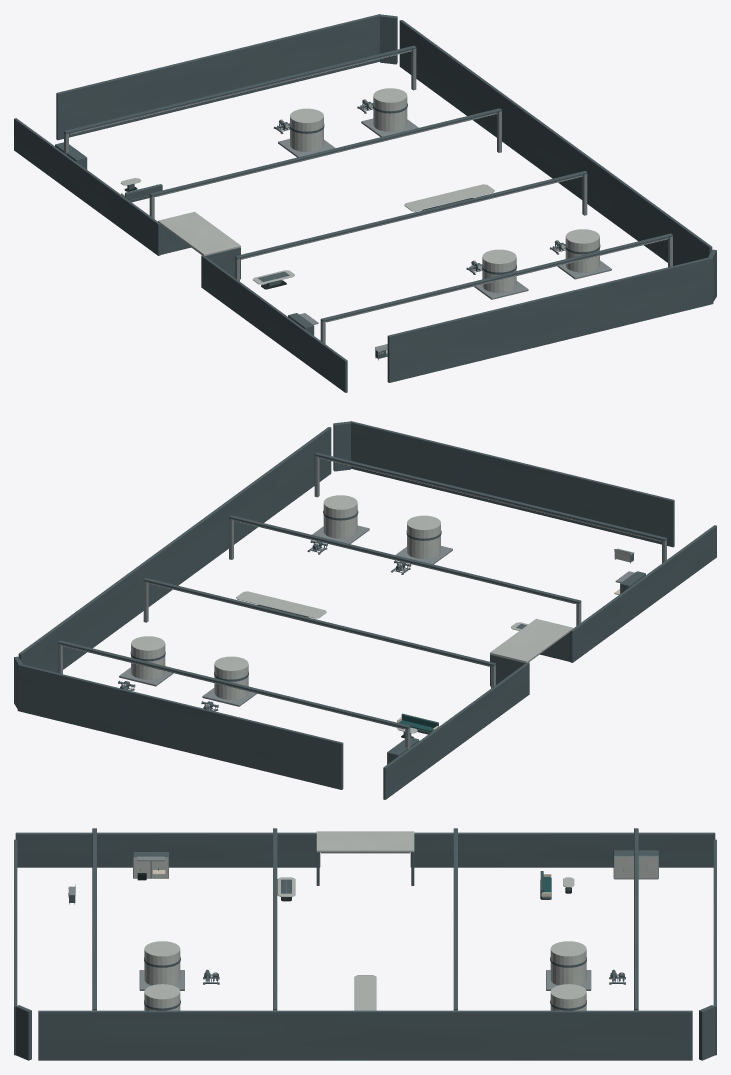
The model's file is SOL_D02_directory_04_source001.glb.
The picture shows the model from 3 angles, top to bottom: view 1: azimuth 30°, elevation 25°; view 2: azimuth 150°, elevation 25°; view 3: azimuth 270°, elevation 25°; orthographic projection. The views are drawn at different scales.
Parts seen in each view (by area): view 1: A_edge1, A_edge-1, A_back, A_inward_screen1, A_inward_screen-1, A_arrival_lintel, A_working_rib3_beam, A_working_rib1_beam, A_working_rib2_beam, A_working_rib0_beam, A_water_tank1, A_water_tank0 (+8 smaller); view 2: A_edge-1, A_edge1, A_back, A_inward_screen-1, A_inward_screen1, A_arrival_lintel, A_working_rib0_beam, A_working_rib2_beam, A_working_rib1_beam, A_working_rib3_beam, A_water_tank3, A_water_tank2 (+8 smaller); view 3: A_back, A_inward_screen1, A_inward_screen-1, A_arrival_lintel, A_water_tank0, A_water_tank2, A_working_rib0_beam, A_working_rib3_beam, A_working_rib1_beam, A_working_rib2_beam, A_folded_return-1, A_folded_return1 (+7 smaller).
Part boxes in pixels (x1=…): A_edge1: x1=387, y1=257, x2=713, y2=382; A_edge-1: x1=56, y1=14, x2=380, y2=140; A_back: x1=399, y1=20, x2=712, y2=265; A_inward_screen1: x1=201, y1=255, x2=347, y2=392; A_inward_screen-1: x1=14, y1=118, x2=160, y2=255; A_arrival_lintel: x1=158, y1=211, x2=240, y2=256; A_working_rib3_beam: x1=320, y1=233, x2=672, y2=321; A_working_rib1_beam: x1=149, y1=108, x2=501, y2=196; A_working_rib2_beam: x1=235, y1=171, x2=587, y2=259; A_working_rib0_beam: x1=64, y1=45, x2=416, y2=133; A_water_tank1: x1=373, y1=88, x2=407, y2=131; A_water_tank0: x1=290, y1=108, x2=323, y2=151; A_edge-1: x1=17, y1=664, x2=343, y2=789; A_edge1: x1=350, y1=421, x2=674, y2=547; A_back: x1=18, y1=427, x2=331, y2=672; A_inward_screen-1: x1=383, y1=662, x2=529, y2=799; A_inward_screen1: x1=570, y1=525, x2=716, y2=662; A_arrival_lintel: x1=490, y1=618, x2=572, y2=663; A_working_rib0_beam: x1=58, y1=640, x2=410, y2=728; A_working_rib2_beam: x1=229, y1=515, x2=581, y2=603; A_working_rib1_beam: x1=143, y1=578, x2=495, y2=666; A_working_rib3_beam: x1=314, y1=452, x2=666, y2=540; A_water_tank3: x1=323, y1=495, x2=357, y2=538; A_water_tank2: x1=407, y1=515, x2=440, y2=558; A_back: x1=38, y1=1010, x2=692, y2=1060; A_inward_screen1: x1=15, y1=832, x2=320, y2=867; A_inward_screen-1: x1=410, y1=832, x2=715, y2=867; A_arrival_lintel: x1=316, y1=831, x2=414, y2=852; A_water_tank0: x1=550, y1=941, x2=586, y2=985; A_water_tank2: x1=144, y1=941, x2=180, y2=985; A_working_rib0_beam: x1=634, y1=828, x2=638, y2=1010; A_working_rib3_beam: x1=92, y1=828, x2=96, y2=1010; A_working_rib1_beam: x1=453, y1=828, x2=457, y2=1010; A_working_rib2_beam: x1=273, y1=828, x2=277, y2=1010; A_folded_return-1: x1=699, y1=1005, x2=715, y2=1060; A_folded_return1: x1=15, y1=1005, x2=31, y2=1060.
Bounding box in the file's own units: 40.79 × 4.8 × 62.3.
32 materials, 32 textured.
